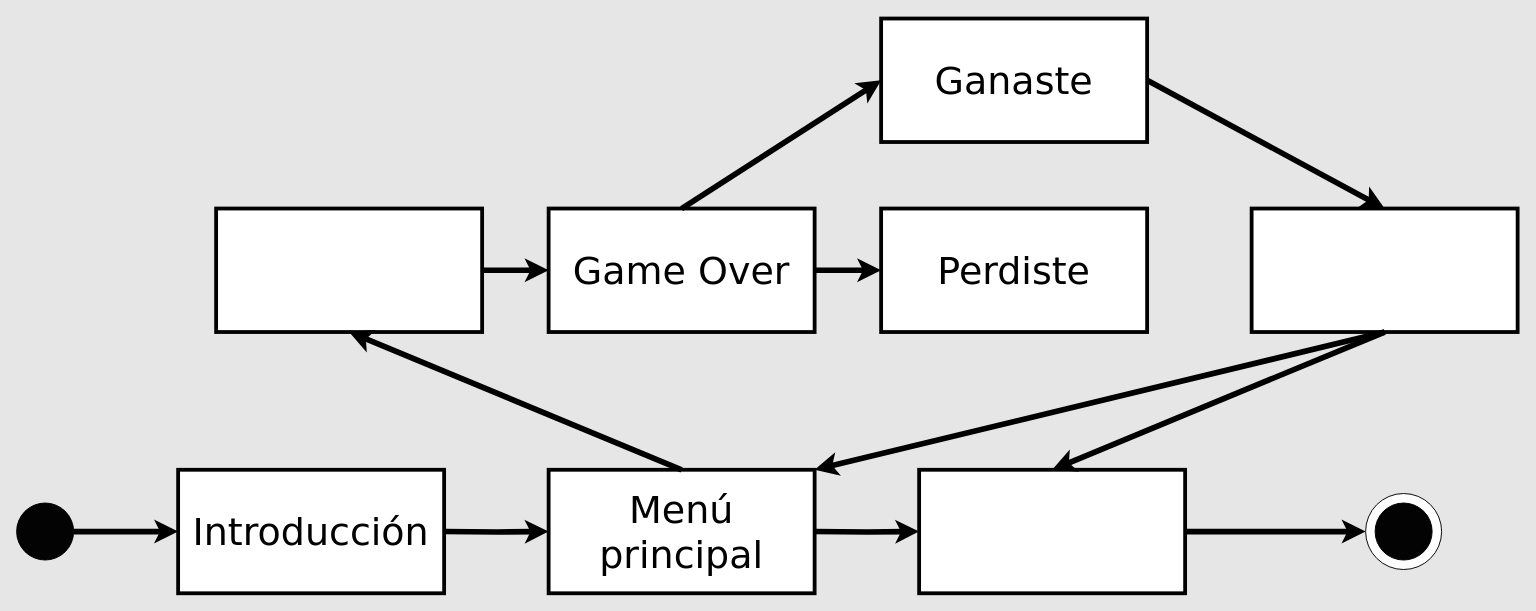
The diagram is 1536 pixels wide and 611 high, and some of its shapes have lost their labels. Here are the shapes that lost their labels. From the top down, the centre of each, then its label:
(x=349, y=269): Gameplay
(x=1384, y=269): Record
(x=1052, y=531): Finalización
